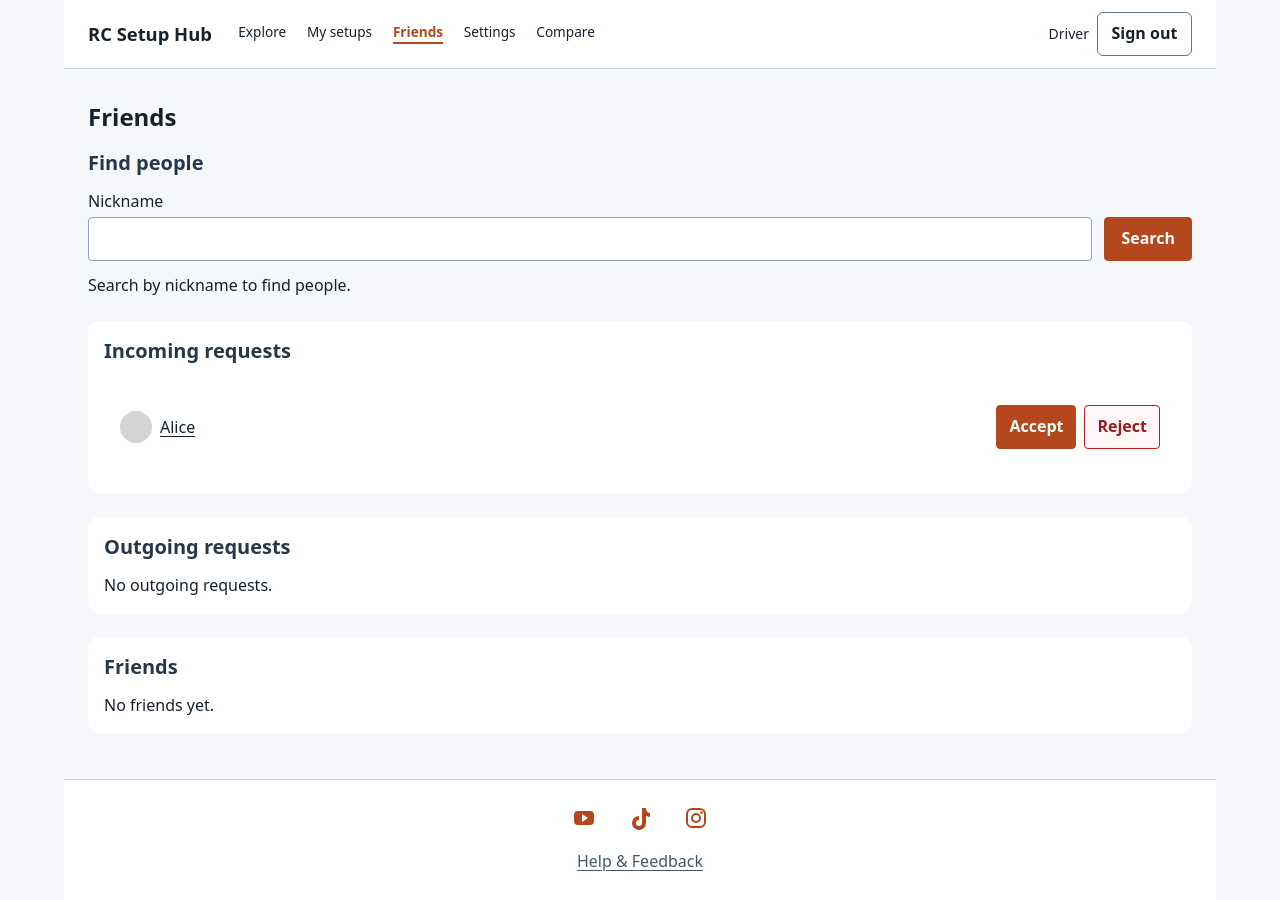
Test: stale accept 404 keeps useful feedback even when refresh removes the row
expect the text "Alice" is shown: met, box [160,415,195,439]
Click the button "Accept".
click(1036, 427)  # box [996,405,1076,449]
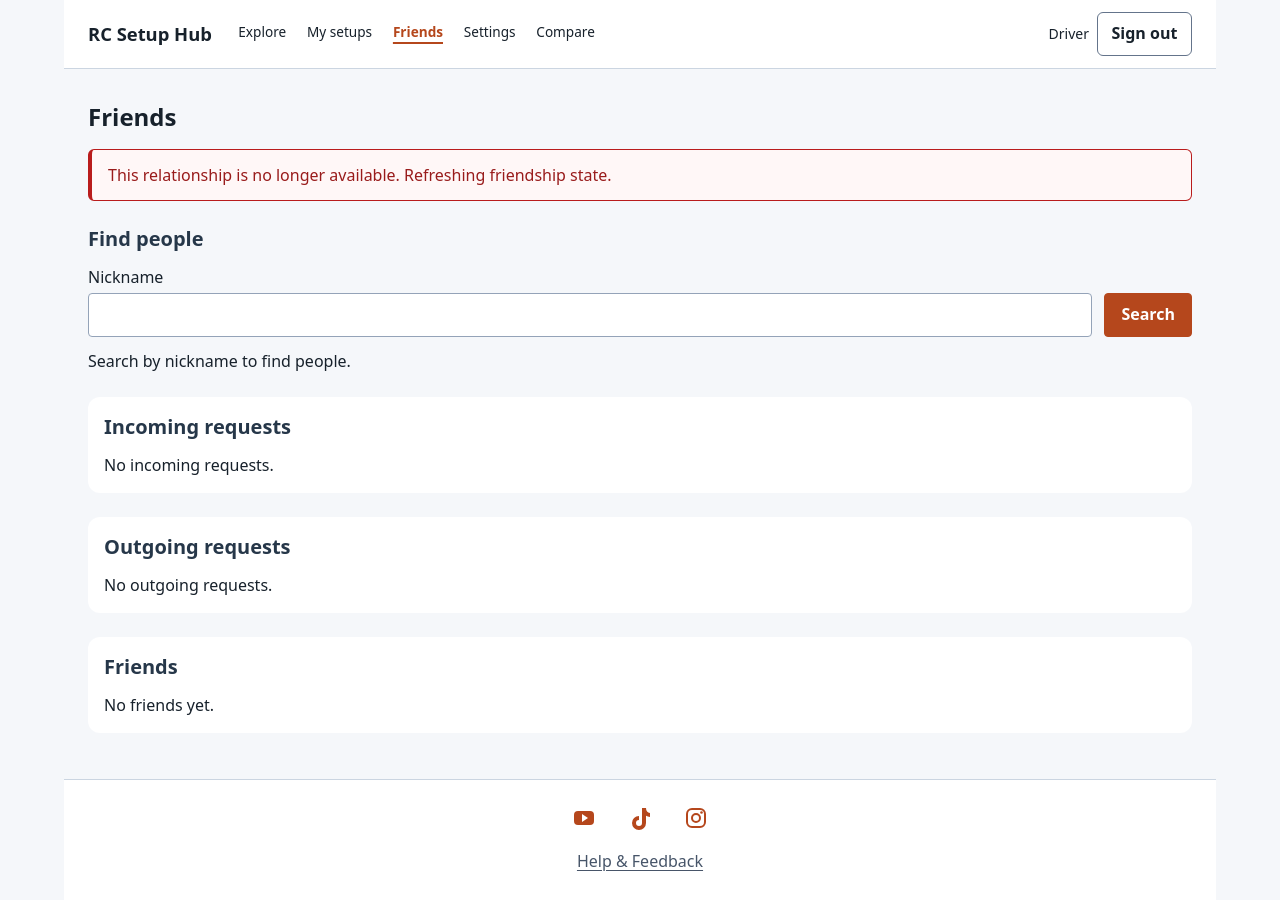
expect the message shows "relationship is no longer available": met, box [108,164,612,186]
expect the text "No incoming requests." is shown: met, box [104,454,274,476]
